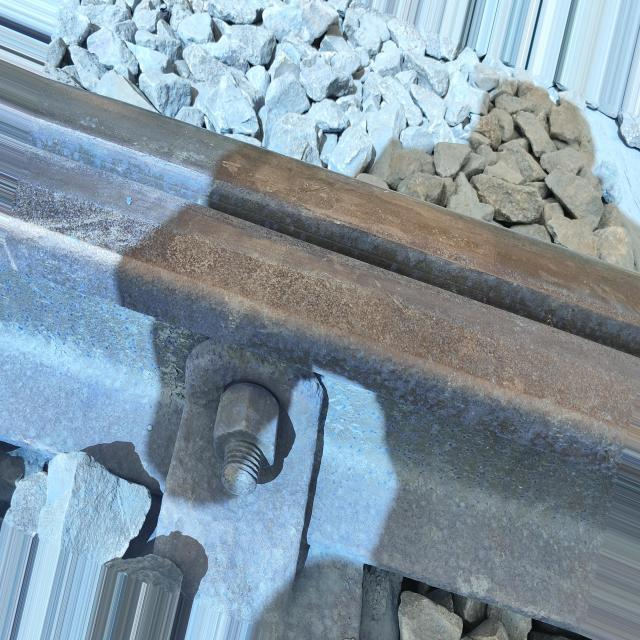Good Joint: (163, 340, 328, 535)
